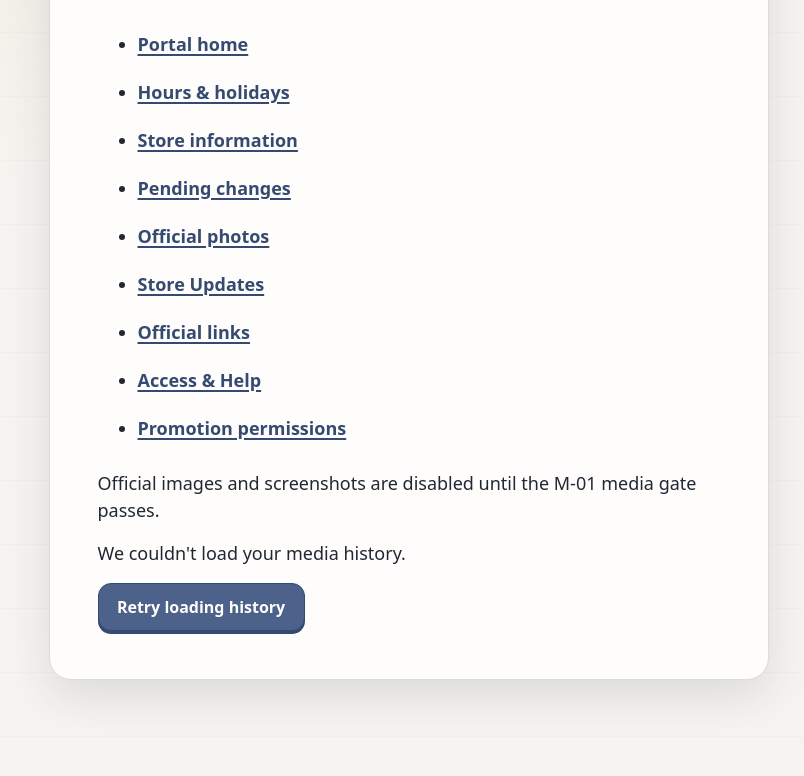
Test: provider-neutral Store Portal boundary › offers retry when current capacity is unavailable
The image size is (804, 776).
(page scrolled)
Click the button "Retry loading history" at (201, 607), box top-left (98, 583), bottom-right (305, 631)
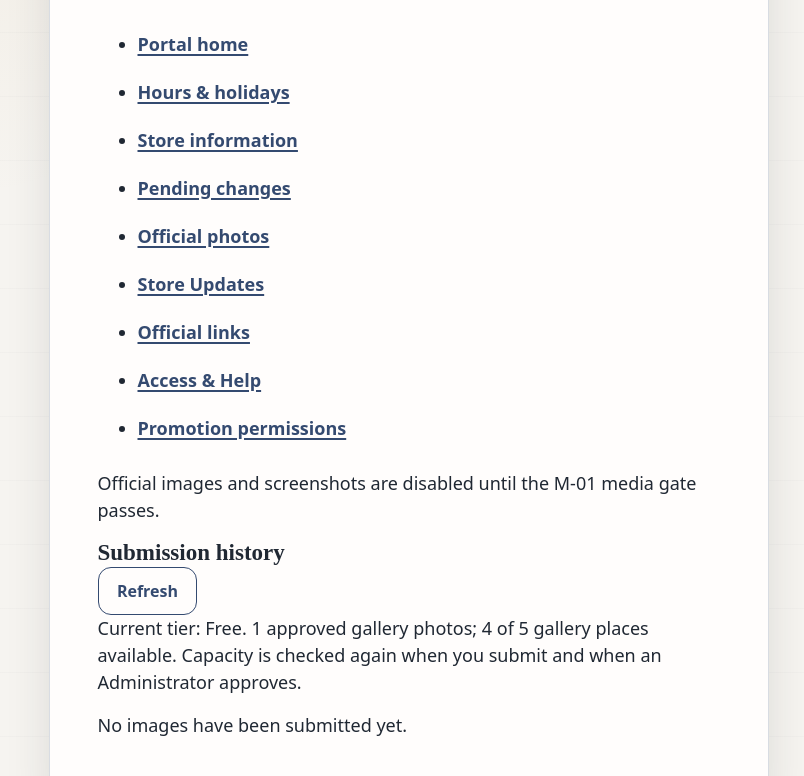
Now the text "4 of 5 gallery places available" is shown, box top-left (98, 616), bottom-right (649, 667)
